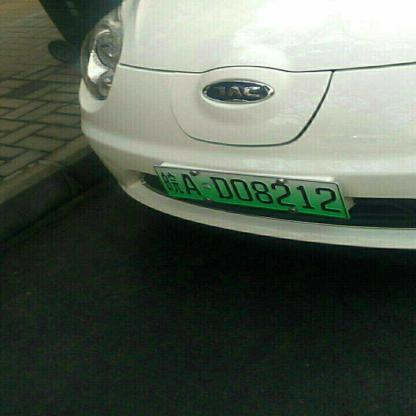lp: (153, 166, 348, 218)
